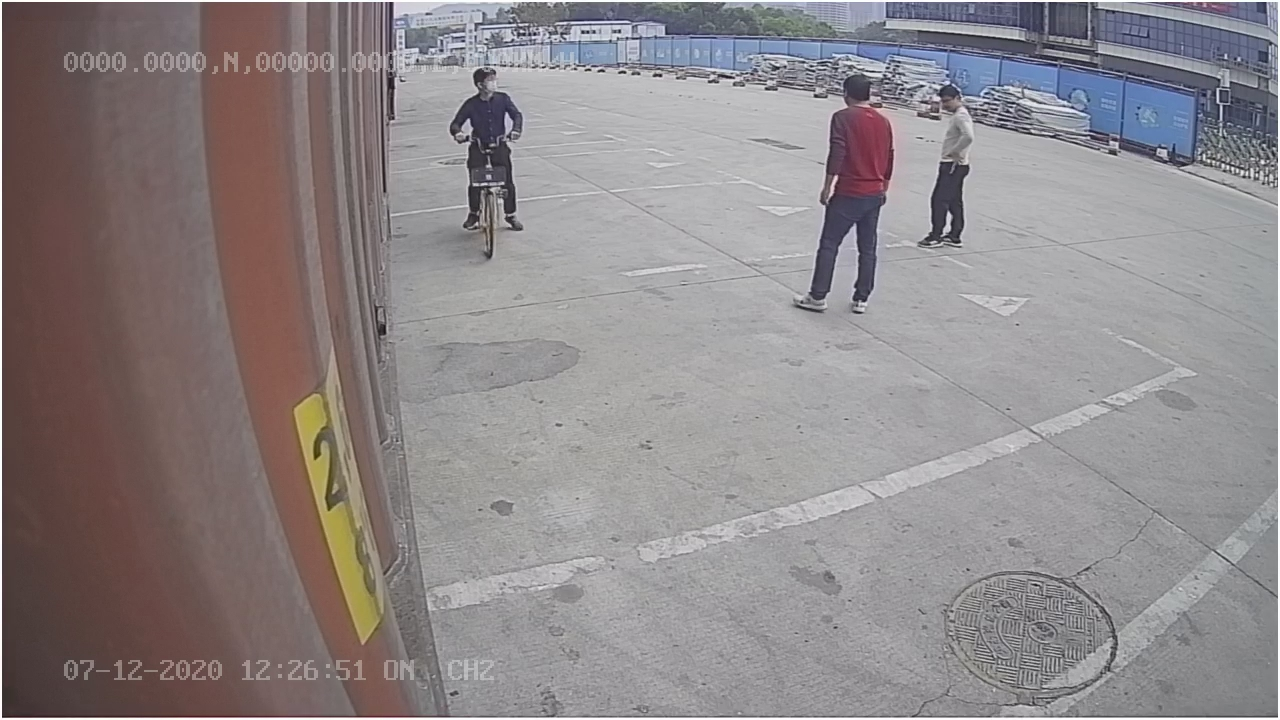person: (786, 69, 899, 315)
